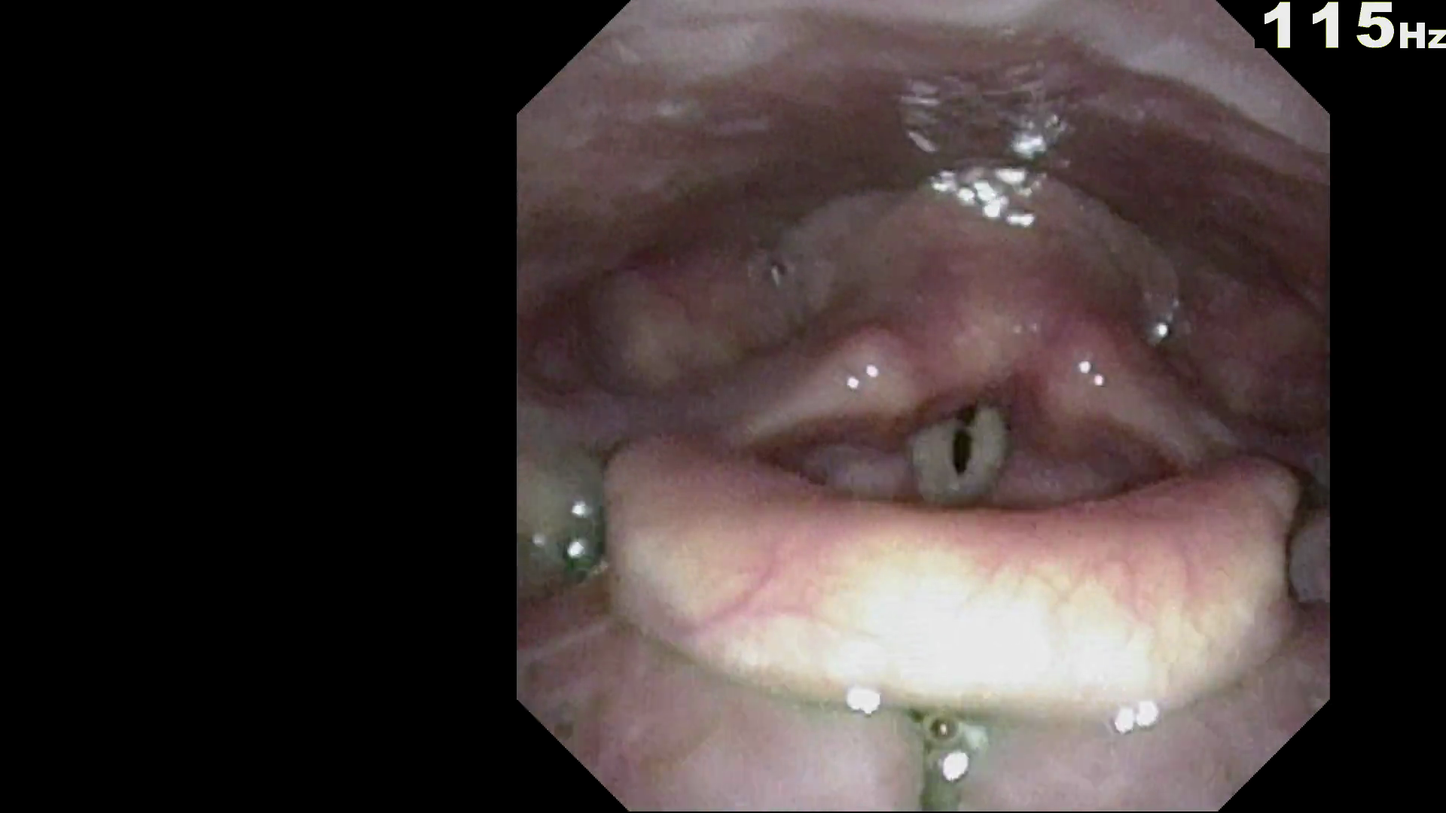epiglottis: (655, 365, 1312, 607)
trachea: (932, 348, 1054, 485)
